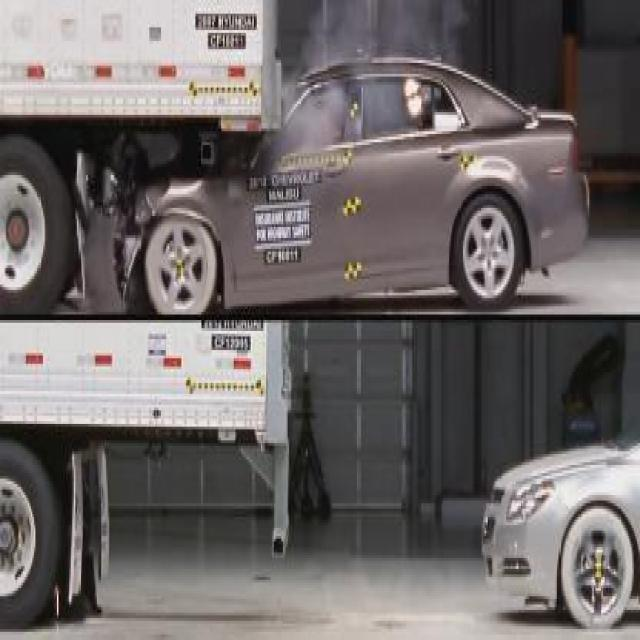accident: (0, 0, 595, 303)
